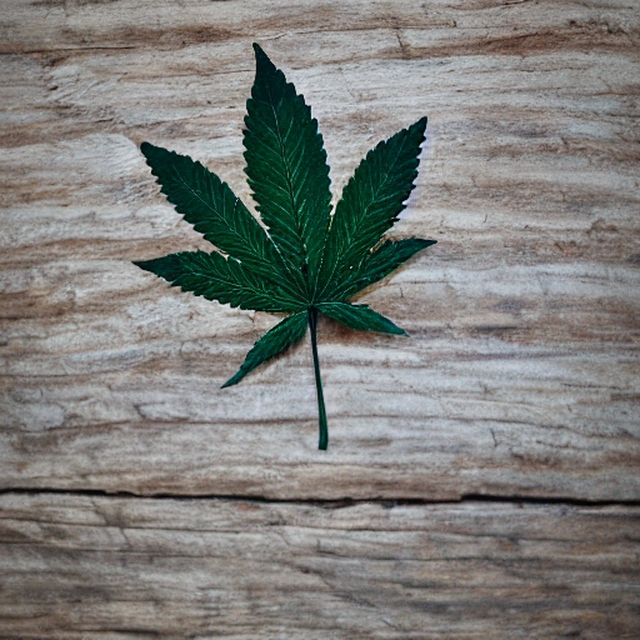Marijuana Leaf: (130, 40, 438, 450)
